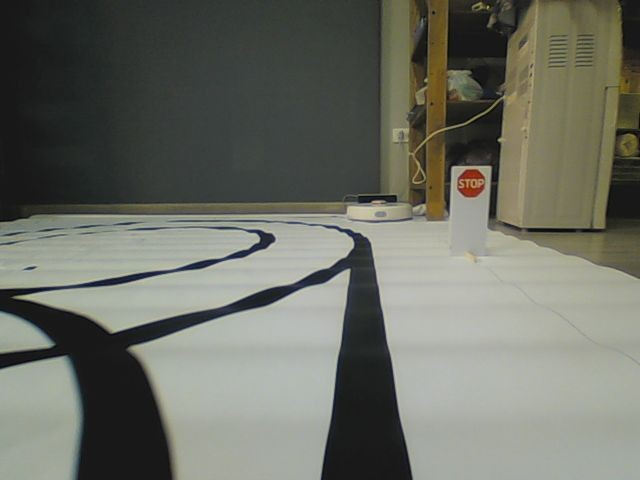Stop: (457, 168, 486, 198)
